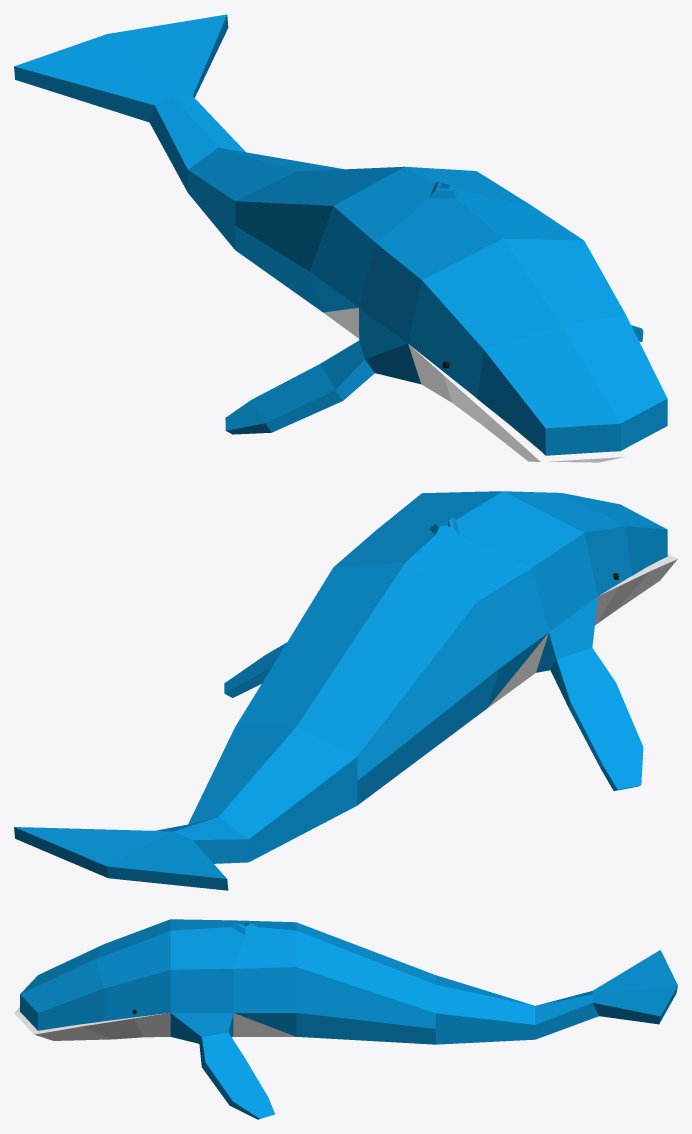
File: WhaleO3.glb
3 renders of one model, top to bottom at view 1: azimuth 30°, elevation 25°; view 2: azimuth 150°, elevation 25°; view 3: azimuth 270°, elevation 25°, orthographic. The views are drawn at different scales.
Visible parts, largest first — view 1: Whale_01_Cube.030; view 2: Whale_01_Cube.030; view 3: Whale_01_Cube.030.
Part boxes in pixels (box(x1,y1,x2,y2)): Whale_01_Cube.030: box(14, 14, 677, 462); Whale_01_Cube.030: box(14, 491, 677, 890); Whale_01_Cube.030: box(14, 919, 677, 1119).
Size of the model in its own units: 16.78 by 7.97 by 36.15.
